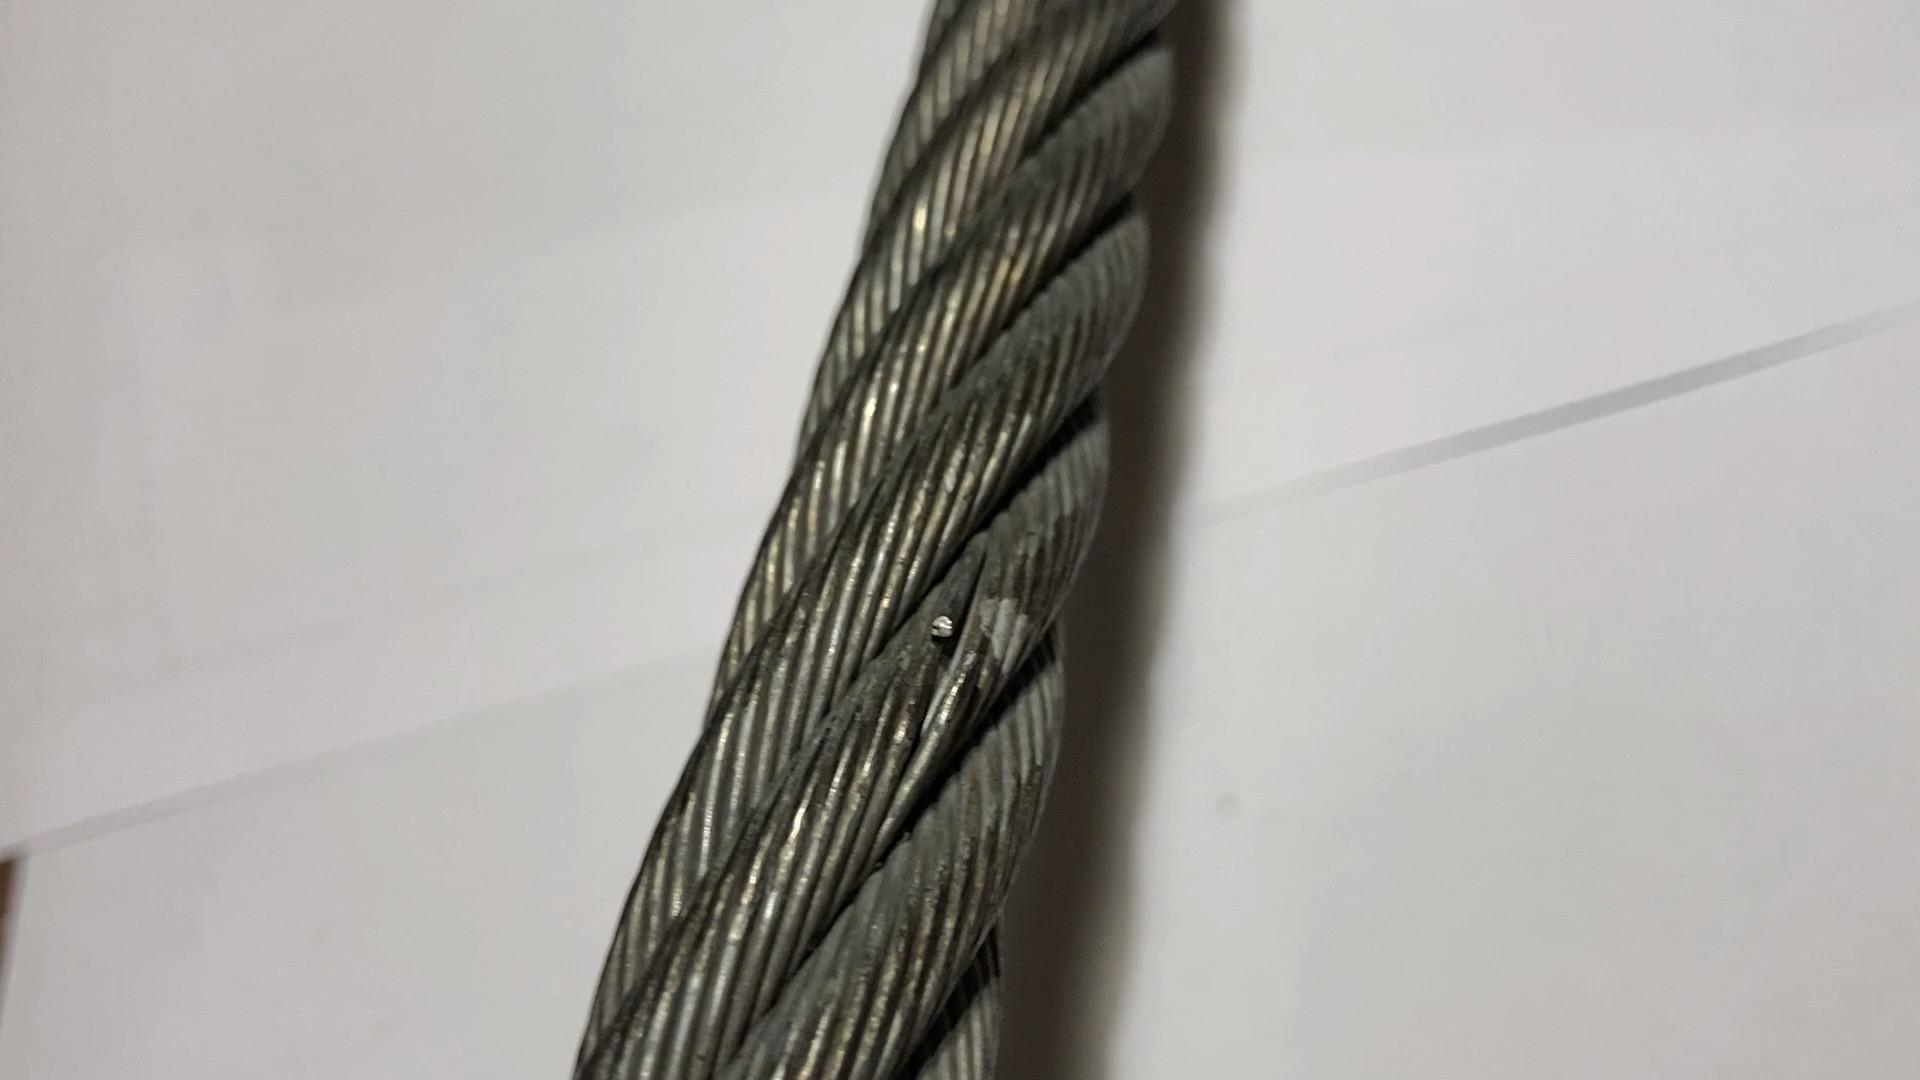break: (901, 570, 984, 703)
